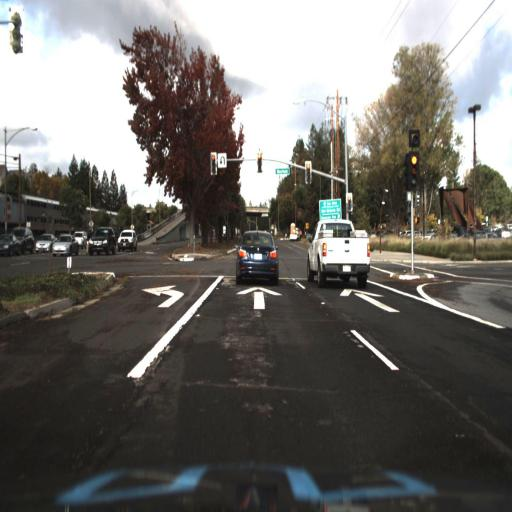car: (306, 217, 372, 286), (236, 229, 278, 278), (87, 225, 114, 258), (90, 227, 114, 258), (51, 235, 76, 259), (17, 223, 37, 251), (17, 228, 36, 257), (54, 234, 80, 254), (116, 228, 137, 252), (118, 229, 137, 251), (35, 234, 54, 255), (36, 231, 56, 250), (76, 227, 86, 252)
trafficLight-Red: (406, 148, 422, 194), (412, 149, 422, 183), (208, 152, 218, 177), (345, 190, 354, 216), (302, 160, 313, 181), (344, 191, 354, 214), (251, 154, 264, 170), (304, 157, 314, 177), (256, 151, 262, 178)
trafficLight-RedLeft: (208, 153, 218, 176)
